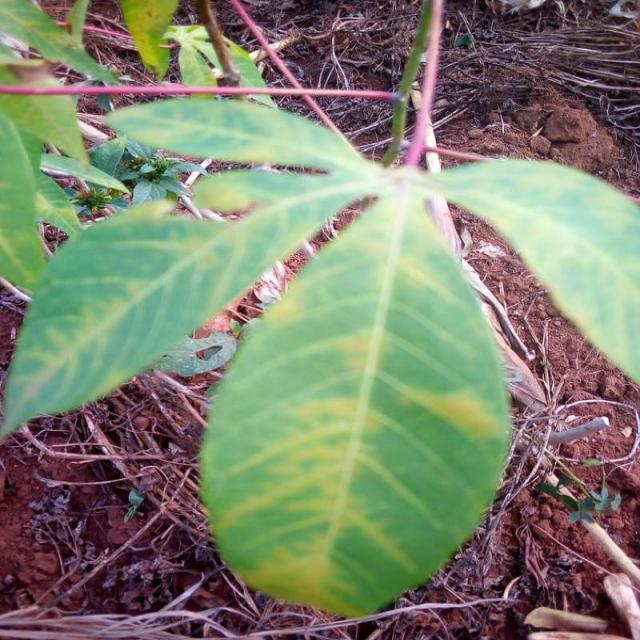cassava leaf: (196, 184, 514, 618)
